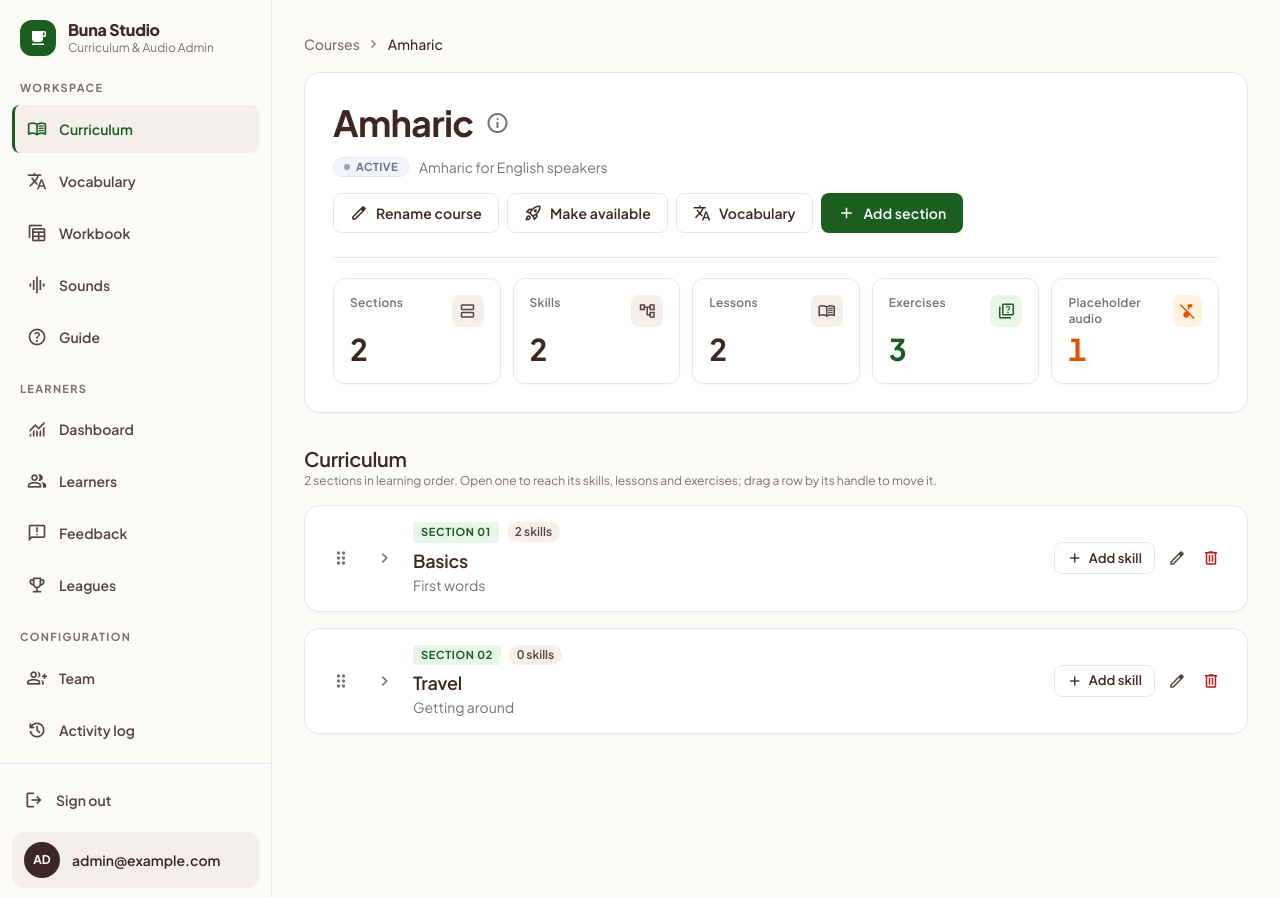
Test: renaming › saves a lesson title and shows the server-s tree afterwards
Check: the heading "Amharic" is shown, box [333,101,474,145]
Click the button named "Expand section Basics" at (385,558), box [369,542,401,574]
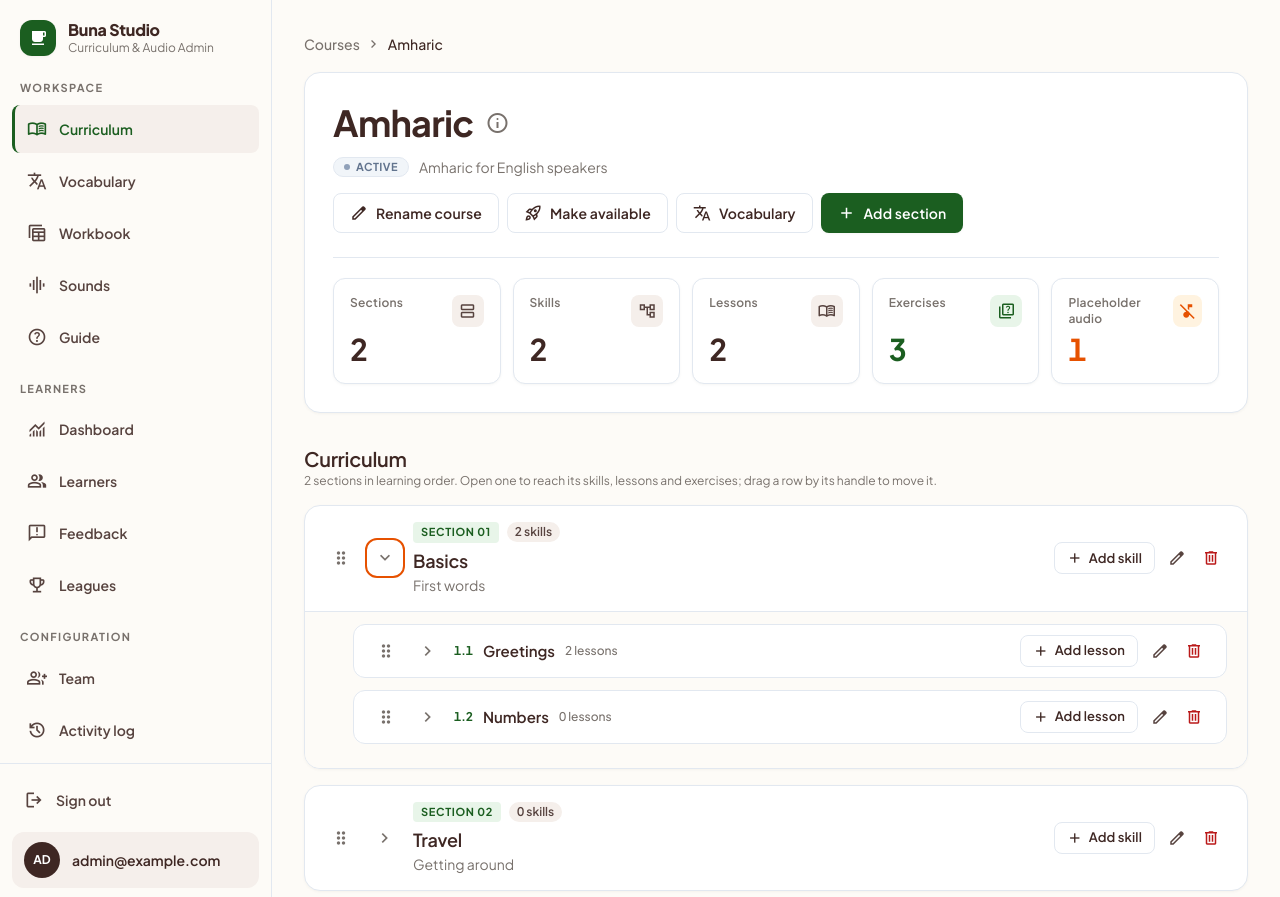
Click the button named "Expand skill Greetings" at (428,650), box [412,634,444,666]
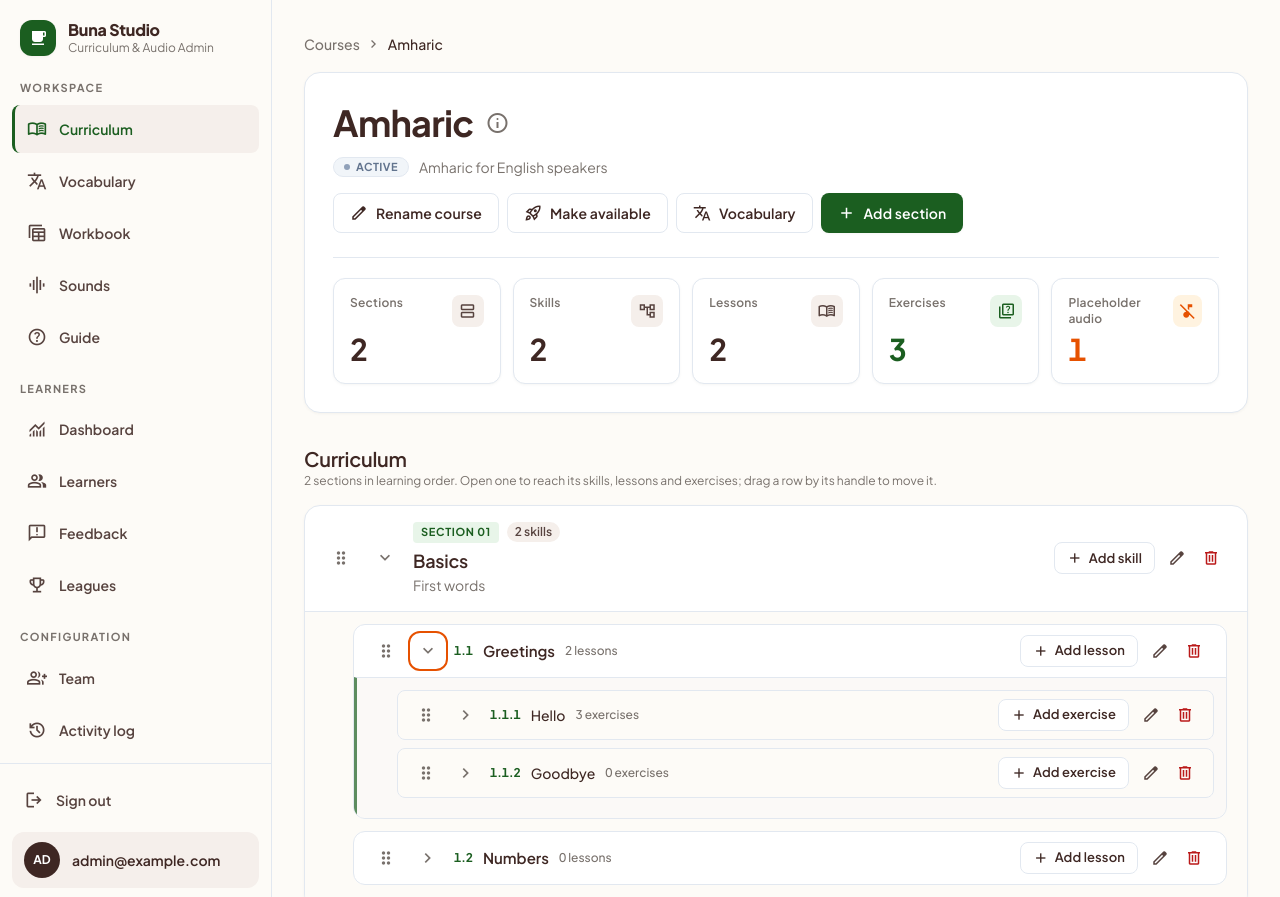
Click the button named "Expand lesson Hello" at (466,714), box [450,698,482,730]
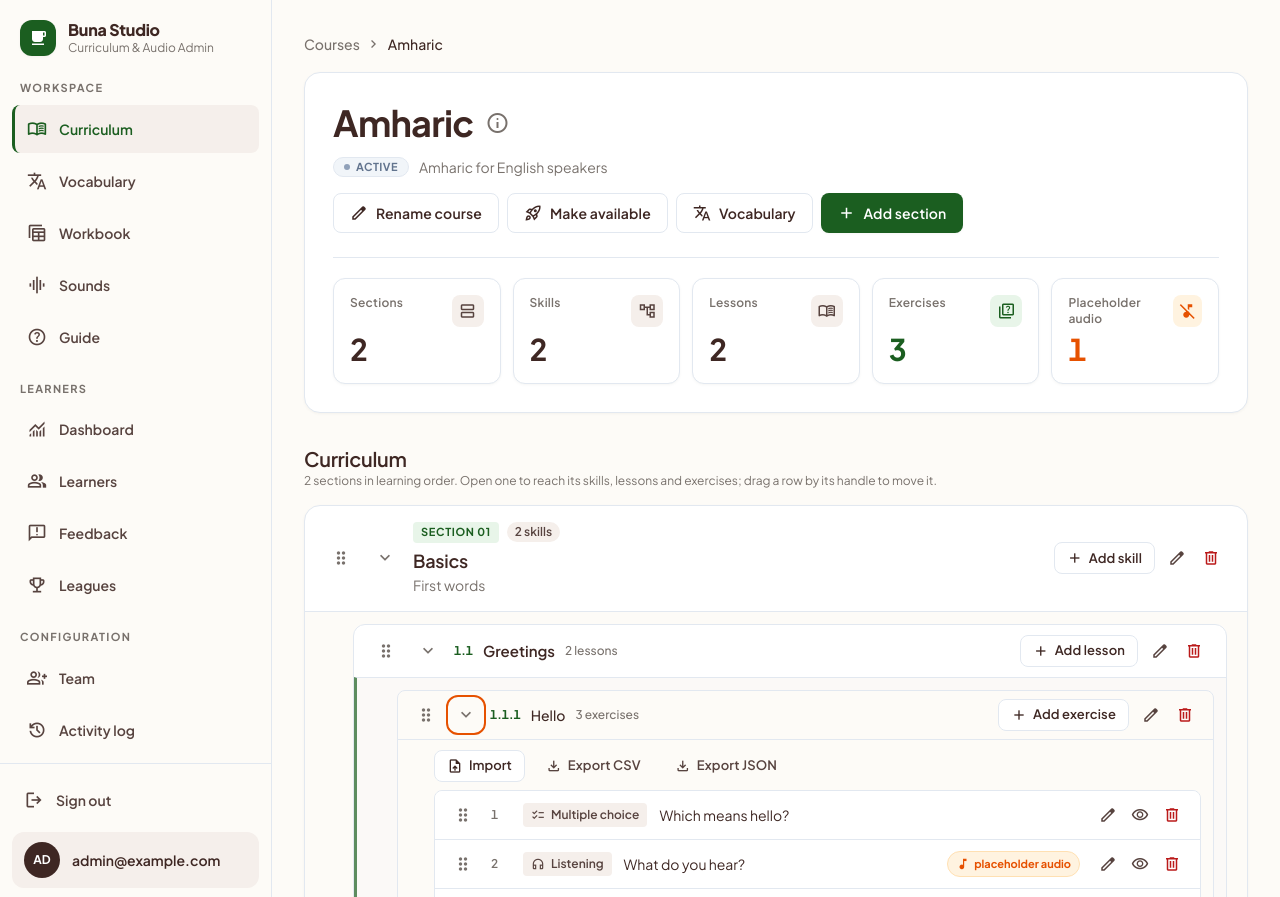
Click the button named "Rename" in the row of "3 exercises" at (1151,714), box [1135,698,1167,730]
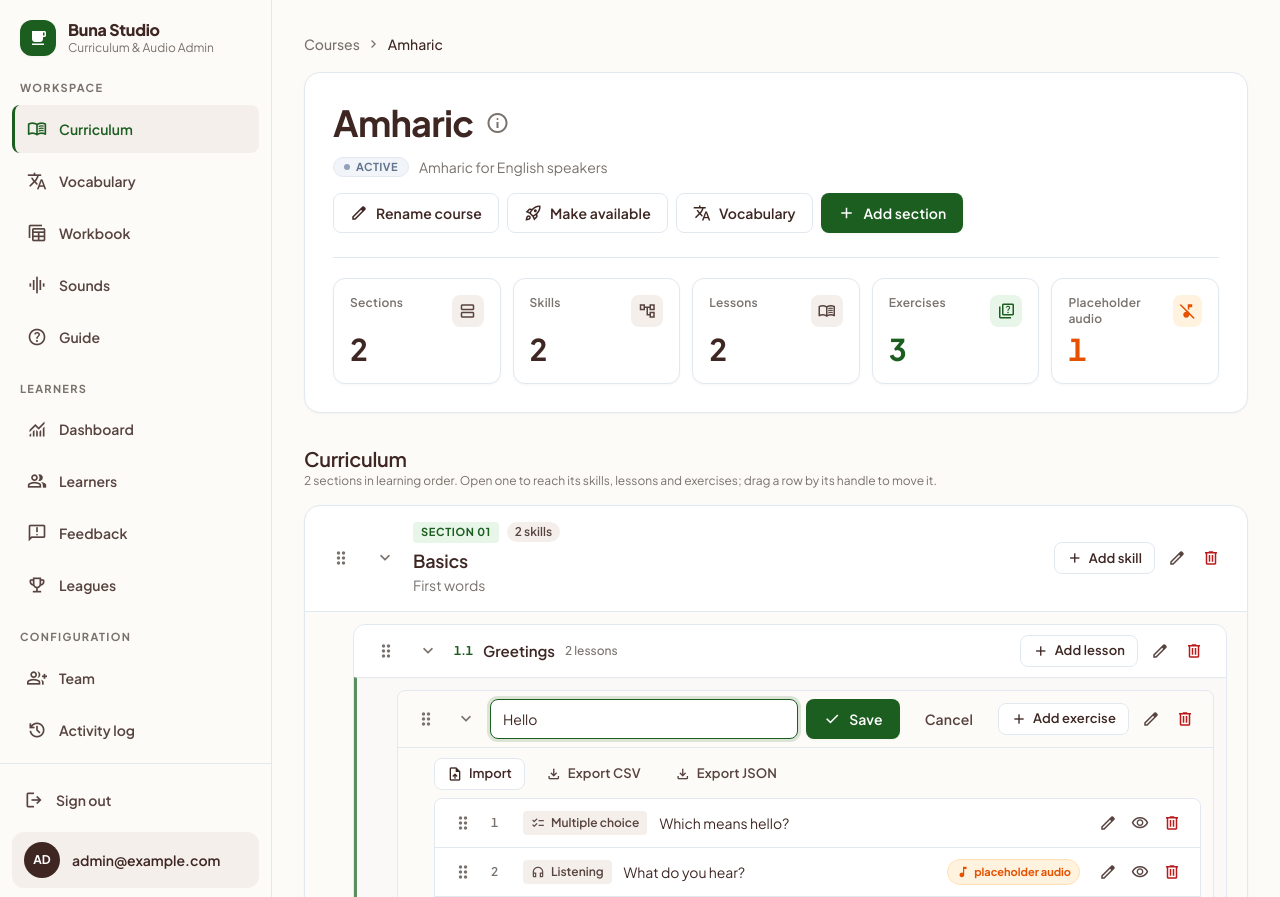
Replace the text in the field named "Title" with "Hello there" at (644,718), box [490,698,798,738]
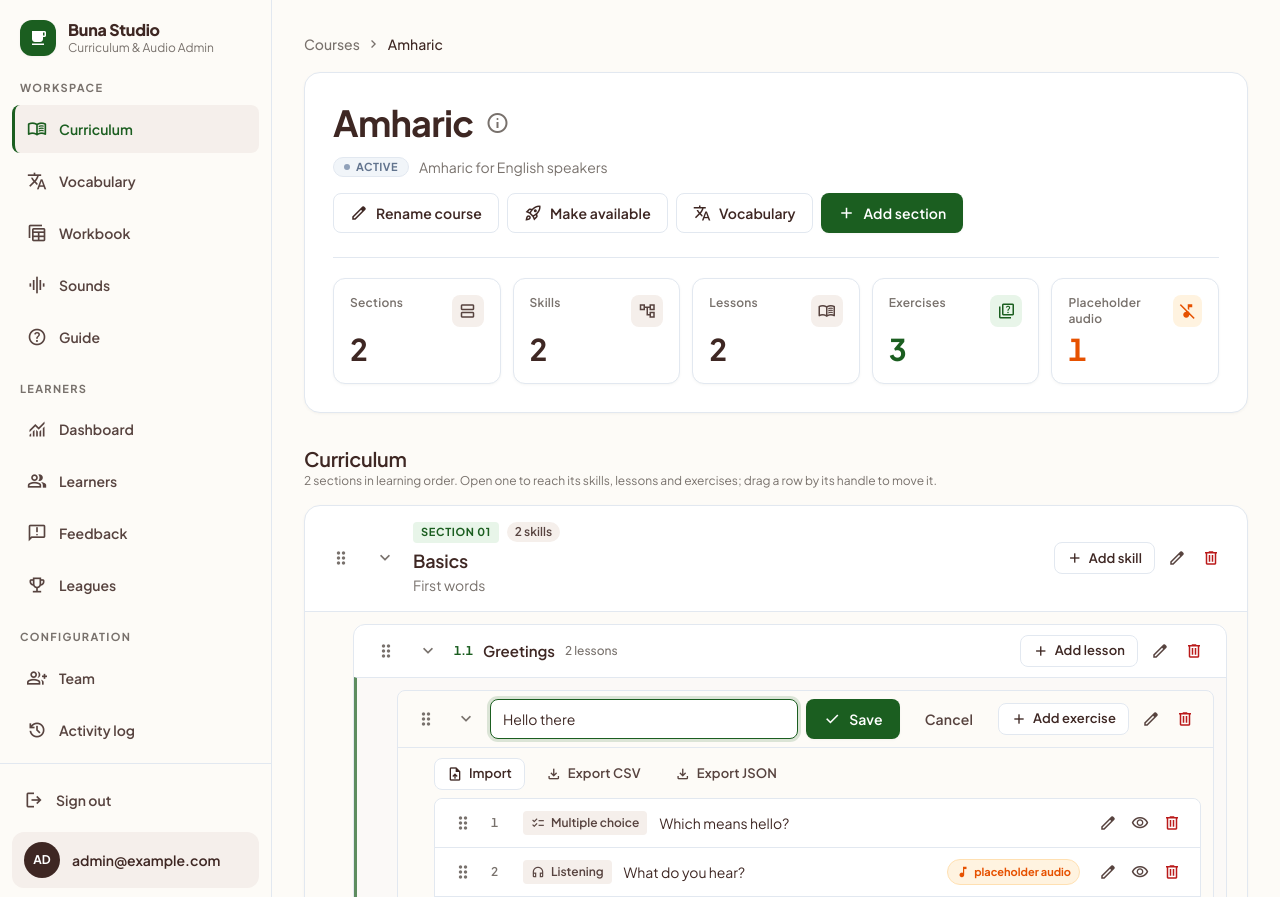
Click the button "Save" at (853,718), box [806,698,900,738]
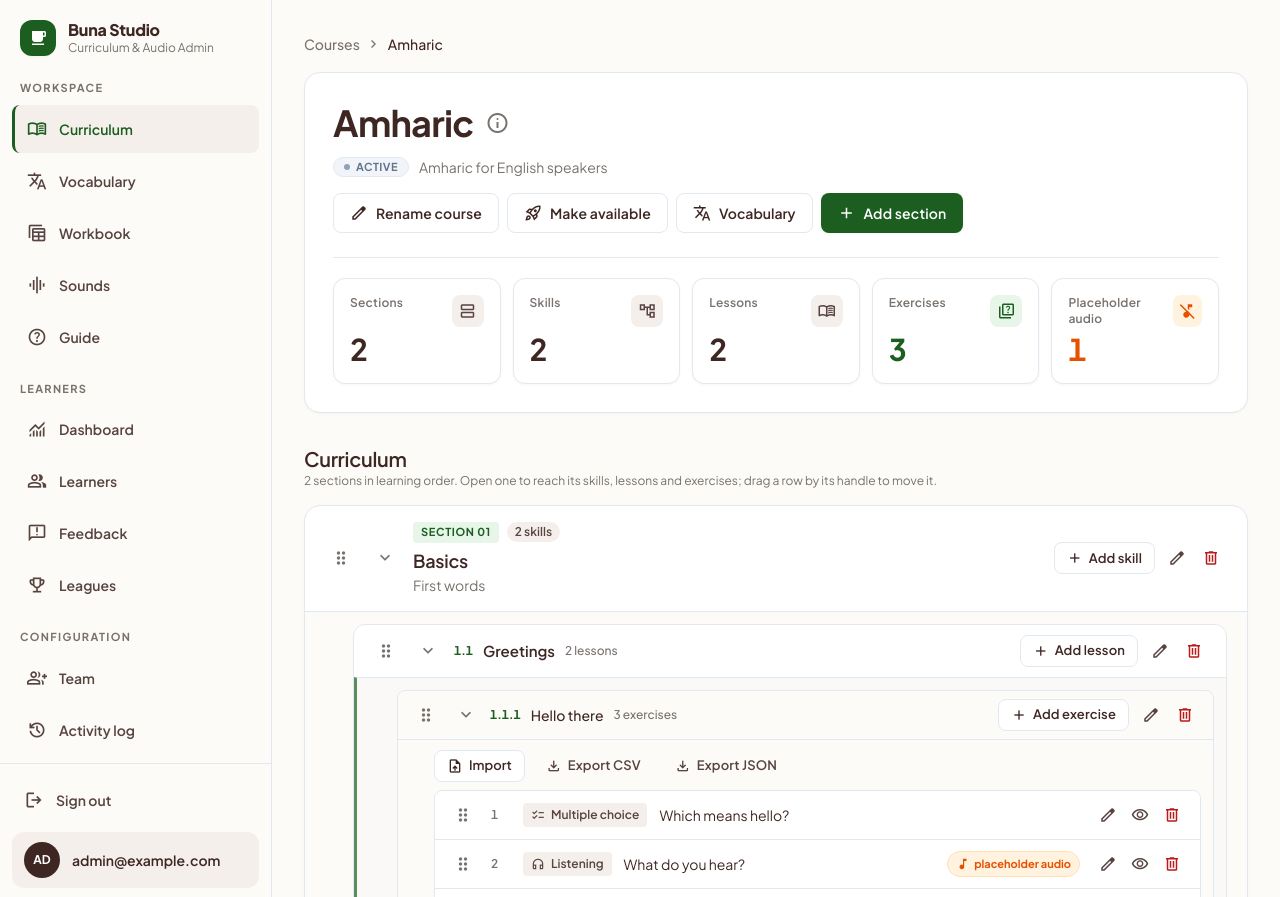
Check: the text "Hello there" is shown, box [531,704,604,724]
